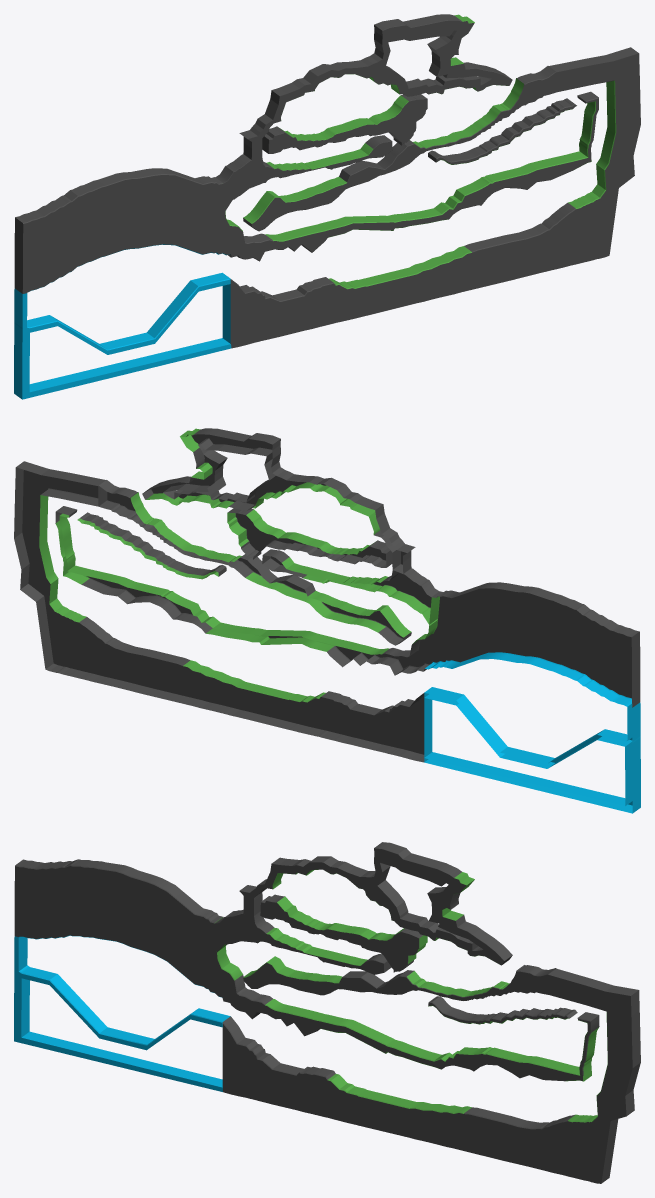
File: lava_levelBottomHalf_01_mesh.fbx
3 renders of one model, top to bottom at view 1: azimuth 30°, elevation 25°; view 2: azimuth 150°, elevation 25°; view 3: azimuth 330°, elevation 25°, orthographic.
Visible parts, largest first — view 1: lava_levelBottomHalf_01_mesh; view 2: lava_levelBottomHalf_01_mesh; view 3: lava_levelBottomHalf_01_mesh.
Part boxes in pixels (x1,y1,x2,y2): lava_levelBottomHalf_01_mesh: (14, 14, 640, 399); lava_levelBottomHalf_01_mesh: (14, 428, 640, 813); lava_levelBottomHalf_01_mesh: (14, 842, 640, 1183).
Bounding box in the file's own units: 43040 × 18779 × 1000.
